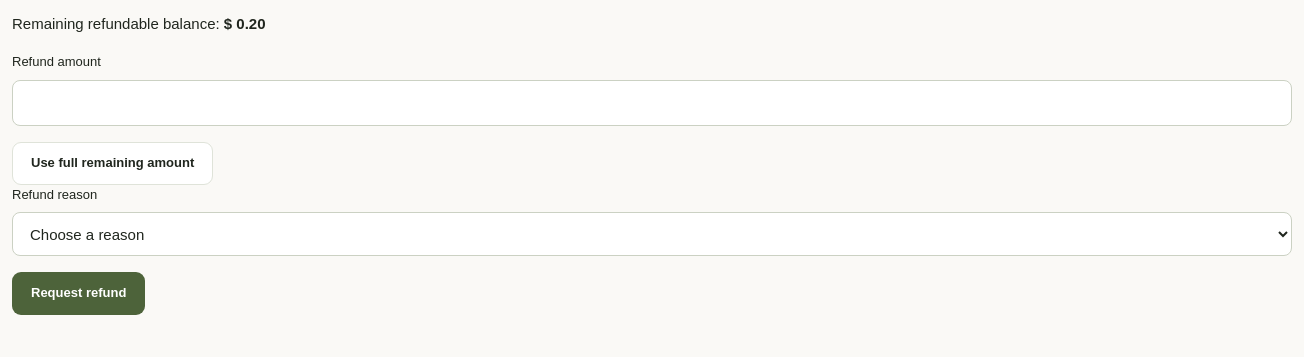
refund safety › blocks invalid or excessive amount 0.201 before sending
Type "0.201" into the field labelled "Refund amount" at point(652, 103), box left=12, top=80, right=1292, bottom=126
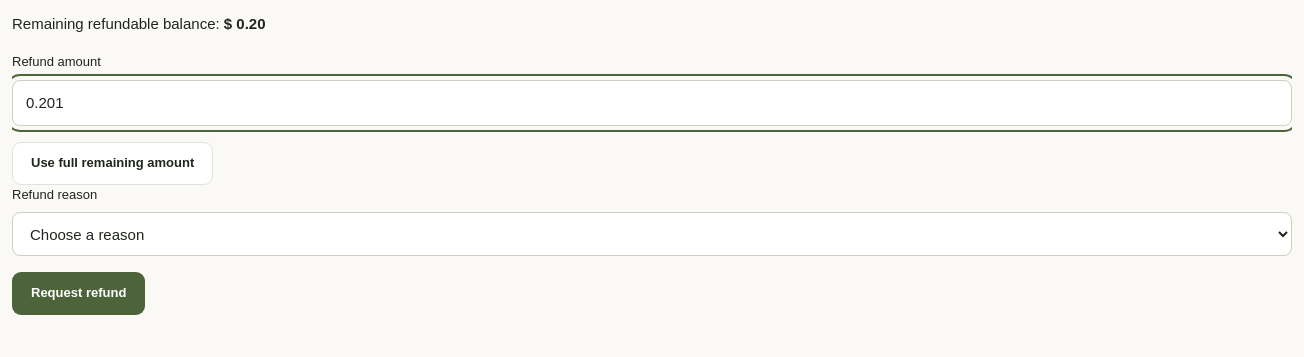
Select "Customer request" in the dropdown labelled "Refund reason" at point(652, 234), box left=12, top=212, right=1292, bottom=256
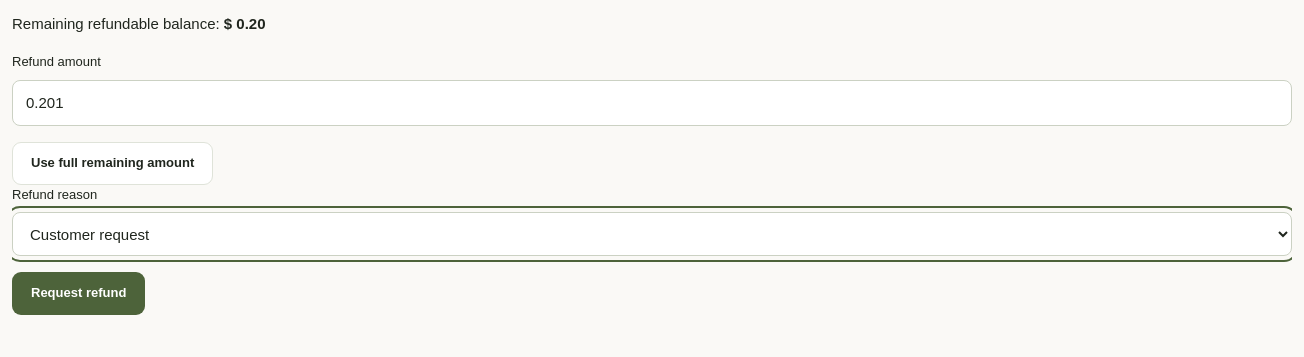
Click the button "Request refund" at point(79, 294), box left=12, top=272, right=145, bottom=315
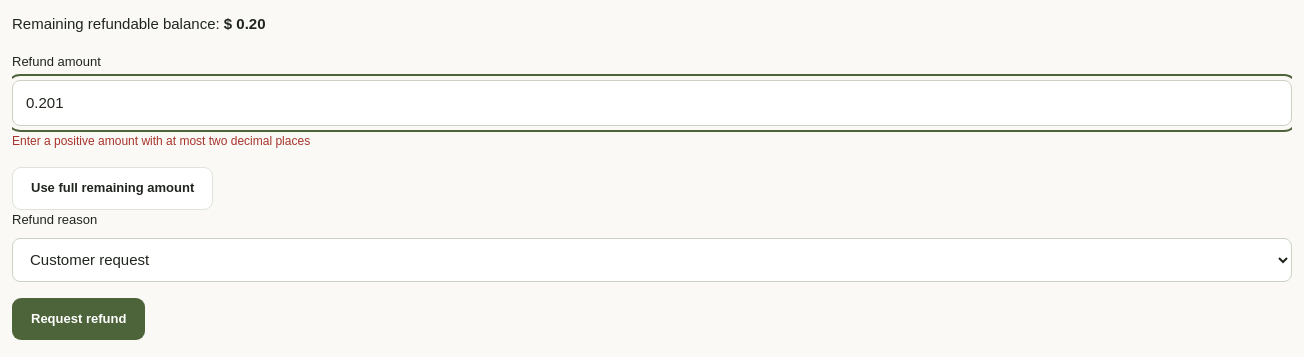
Result: the message reads "Enter a positive amount with at most two decimal places" at left=12, top=134, right=310, bottom=148
